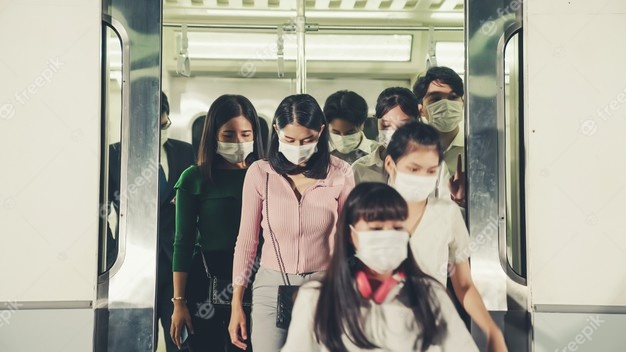with_mask: (357, 214, 407, 274), (393, 153, 439, 199), (425, 85, 465, 130), (277, 124, 319, 164), (214, 124, 257, 161), (329, 115, 363, 156)
